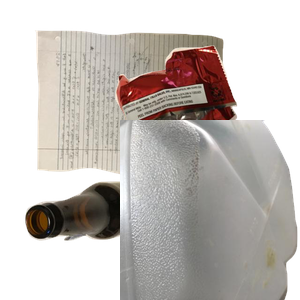glass: (23, 179, 183, 300)
paper: (32, 28, 249, 196)
plastic: (120, 120, 300, 300)
trash: (113, 43, 300, 181)
